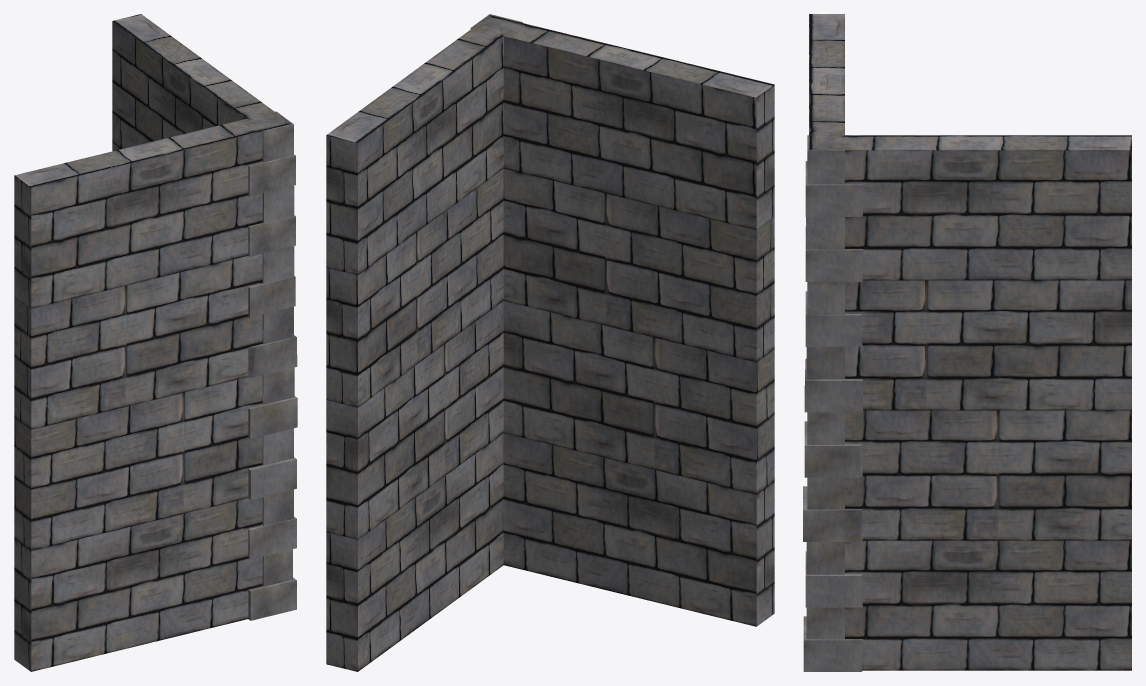
Rendered from wall_corner_02.fbx.
3 views of the same model, side by side, from view 1: azimuth 30°, elevation 25°; view 2: azimuth 150°, elevation 25°; view 3: azimuth 270°, elevation 25° (orthographic). The views are drawn at different scales.
Visible parts, largest first — view 1: wall_corner_02; view 2: wall_corner_02; view 3: wall_corner_02.
Boxes of the visible parts, box(x1,y1,x2,y2) form: wall_corner_02: box(14, 14, 297, 671); wall_corner_02: box(326, 14, 774, 671); wall_corner_02: box(803, 14, 1131, 671).
Size of the model in its own units: 913 by 1600 by 917.
